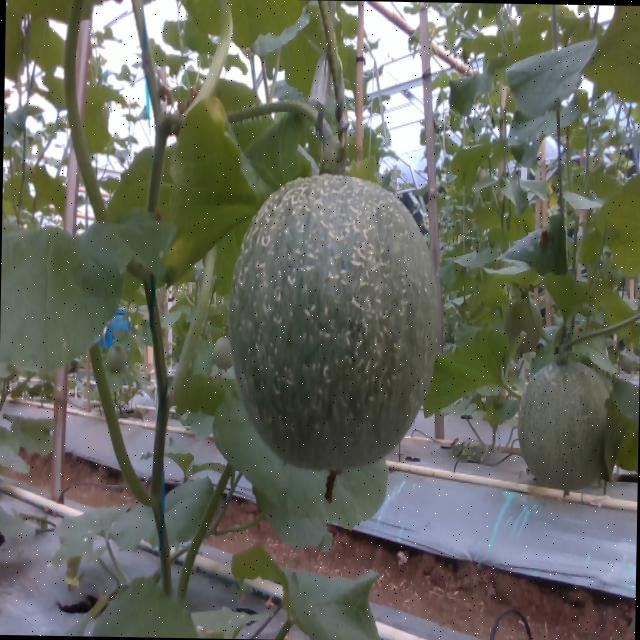melon: (229, 173, 437, 469)
